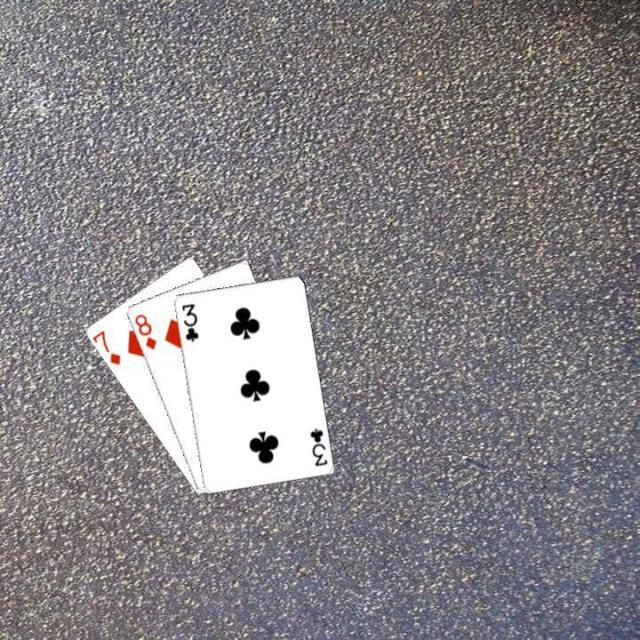3C: (177, 300, 200, 344), (306, 424, 329, 468)
7D: (89, 326, 122, 367)
8D: (131, 310, 159, 352)
